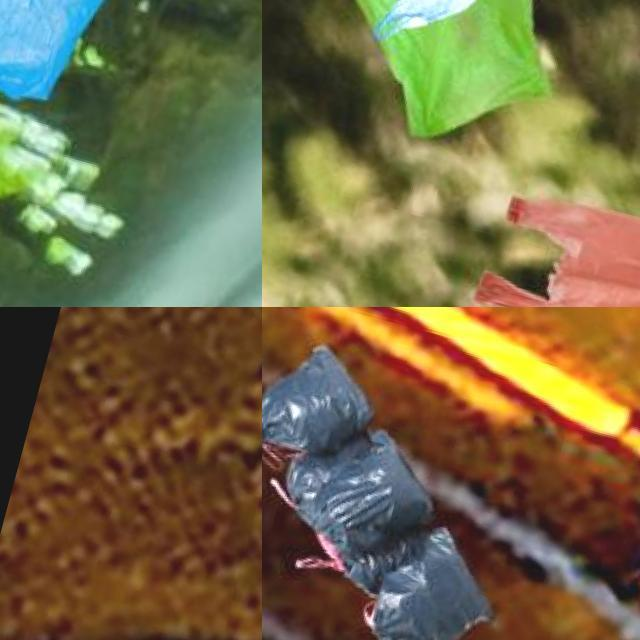waste: (313, 0, 584, 163), (266, 404, 454, 592), (297, 0, 554, 99), (471, 180, 640, 307), (360, 514, 508, 640), (262, 332, 385, 467), (0, 0, 137, 119)
